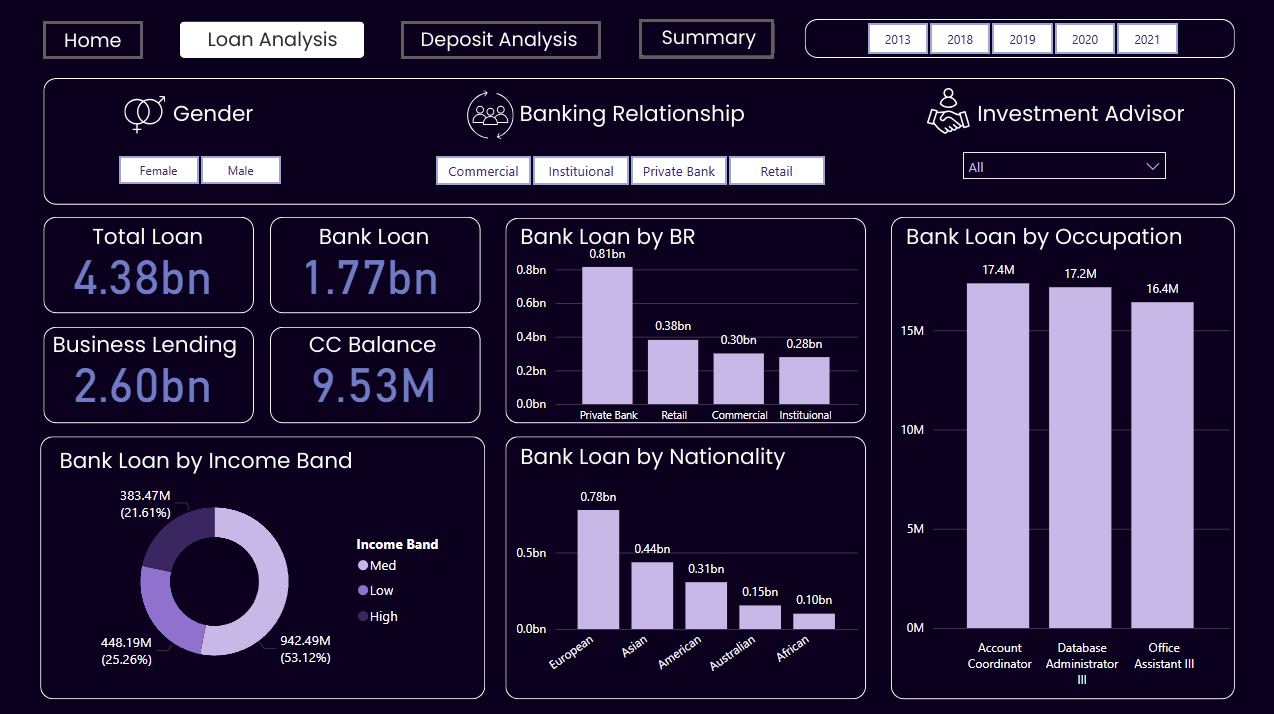

The dashboard page shown, as its layout file describes it:
{"tool":"powerbi","page":{"name":"Loan Analysis","canvas":[1280,720],"ordinal":1},"visuals":[{"type":"slicer","fields":{"Values":["banking_case customer.Year of Joining"]},"box":[843,17,360,45],"z":0},{"type":"actionButton","box":[44,22,100,38],"z":1000},{"type":"actionButton","box":[402,22,200,38],"z":2000},{"type":"actionButton","box":[640,20,135,40],"z":3000},{"type":"card","fields":{"Values":["Sum(banking_case customer.Bank Loans)"]},"box":[255,242,231,61],"z":4000},{"type":"card","fields":{"Values":["banking_case customer.Total Loan"]},"box":[28,242,231,61],"z":5000},{"type":"card","fields":{"Values":["Sum(banking_case customer.Business Lending)"]},"box":[28,350,231,61],"z":6000},{"type":"card","fields":{"Values":["Sum(banking_case customer.Credit Card Balance)"]},"box":[259,350,231,61],"z":7000},{"type":"donutChart","fields":{"Category":["banking_case customer.Income Band"],"Y":["Sum(banking_case customer.Bank Loans)"]},"box":[68,476,395,213],"z":8000},{"type":"clusteredColumnChart","fields":{"Category":["banking_case customer.BRId"],"Y":["Sum(banking_case customer.Bank Loans)"]},"box":[512,229,352,205],"z":9000},{"type":"clusteredColumnChart","fields":{"Category":["banking_case customer.Nationality"],"Y":["Sum(banking_case customer.Bank Loans)"]},"box":[512,476,352,220],"z":10000},{"type":"clusteredColumnChart","fields":{"Category":["banking_case customer.Occupation"],"Y":["Sum(banking_case customer.Bank Loans)"]},"box":[896,247,340,449],"z":11000},{"type":"slicer","fields":{"Values":["banking_case customer.BRId"]},"box":[411,150,439,40],"z":12000},{"type":"slicer","fields":{"Values":["banking_case customer.GenderId"]},"box":[94,150,212,39],"z":13000},{"type":"slicer","fields":{"Values":["banking_case investment_advisor.Investment Advisor"]},"box":[954,143,223,53],"z":14000}]}

Visuals, with their boxes in screenshot pixels (x1, y1, x2, y2), scaled from the page's 1280x720 canvas onto the 1274x714 screenshot:
slicer - banking_case customer.Year of Joining: [left=839, top=17, right=1197, bottom=61]
actionButton: [left=44, top=22, right=143, bottom=60]
actionButton: [left=400, top=22, right=599, bottom=60]
actionButton: [left=637, top=20, right=771, bottom=60]
card - Sum(banking_case customer.Bank Loans): [left=254, top=240, right=484, bottom=300]
card - banking_case customer.Total Loan: [left=28, top=240, right=258, bottom=300]
card - Sum(banking_case customer.Business Lending): [left=28, top=347, right=258, bottom=408]
card - Sum(banking_case customer.Credit Card Balance): [left=258, top=347, right=488, bottom=408]
donutChart - banking_case customer.Income Band x Sum(banking_case customer.Bank Loans): [left=68, top=472, right=461, bottom=683]
clusteredColumnChart - banking_case customer.BRId x Sum(banking_case customer.Bank Loans): [left=510, top=227, right=860, bottom=430]
clusteredColumnChart - banking_case customer.Nationality x Sum(banking_case customer.Bank Loans): [left=510, top=472, right=860, bottom=690]
clusteredColumnChart - banking_case customer.Occupation x Sum(banking_case customer.Bank Loans): [left=892, top=245, right=1230, bottom=690]
slicer - banking_case customer.BRId: [left=409, top=149, right=846, bottom=188]
slicer - banking_case customer.GenderId: [left=94, top=149, right=305, bottom=187]
slicer - banking_case investment_advisor.Investment Advisor: [left=950, top=142, right=1171, bottom=194]
